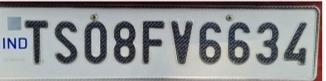0: (82, 17, 110, 66)
3: (256, 18, 281, 69)
4: (283, 17, 310, 69)
6: (225, 18, 253, 64), (198, 16, 222, 68)
8: (111, 17, 140, 68)
F: (141, 17, 166, 67)
S: (52, 17, 80, 66)
T: (21, 13, 51, 68)
V: (169, 17, 194, 68)
